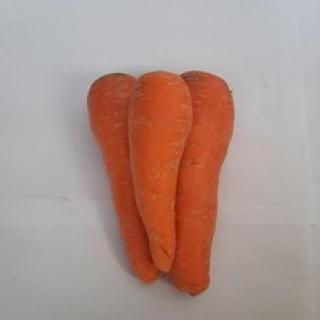carrot: (163, 69, 235, 295), (86, 73, 160, 281), (126, 70, 190, 274)
